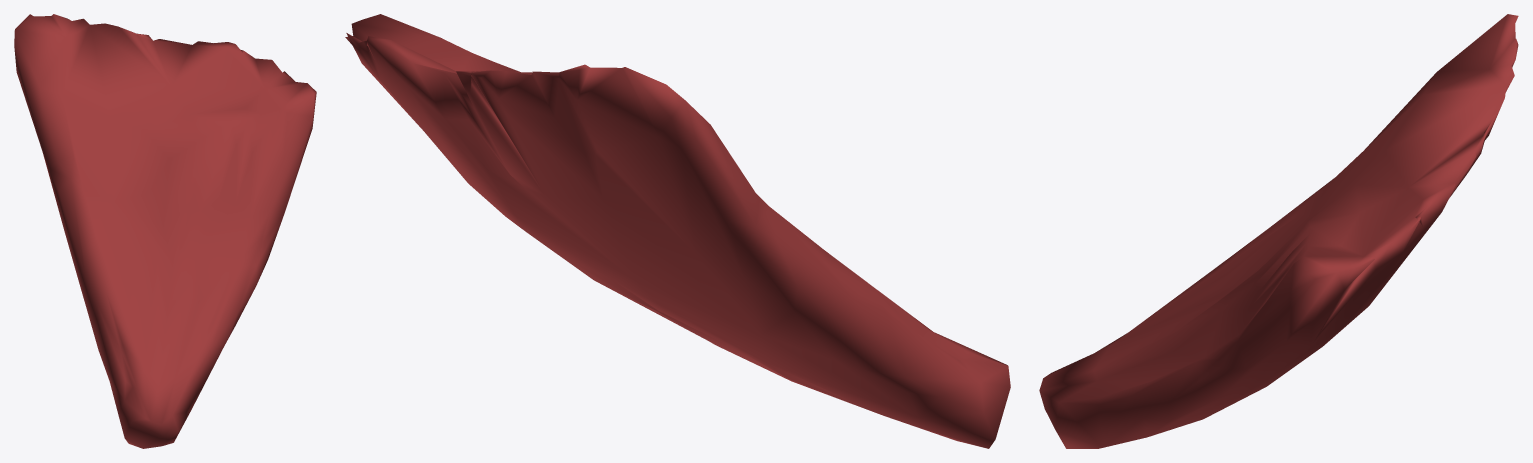
File: rectus-posterior-minor-capitis-muscle-l.glb
3 renders of one model, left to right at view 1: azimuth 30°, elevation 25°; view 2: azimuth 150°, elevation 25°; view 3: azimuth 270°, elevation 25°, orthographic. The views are drawn at different scales.
Parts seen in each view (by area): view 1: Rectus posterior minor capitis muscle.l; view 2: Rectus posterior minor capitis muscle.l; view 3: Rectus posterior minor capitis muscle.l.
Boxes of the visible parts, x1,y1,x2,y2 form: Rectus posterior minor capitis muscle.l: (14,14,316,448); Rectus posterior minor capitis muscle.l: (345,14,1010,448); Rectus posterior minor capitis muscle.l: (1039,14,1518,448).
Bounding box in the file's own units: 0.0236 × 0.026 × 0.0253.
